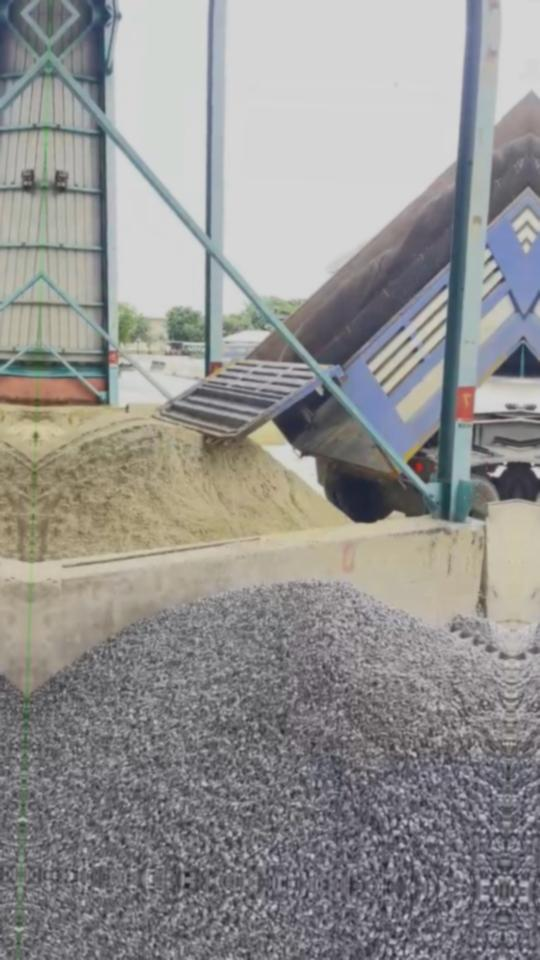gravel: (24, 581, 508, 888), (447, 614, 513, 657)
sand: (34, 418, 347, 559), (37, 404, 152, 455), (251, 423, 281, 445)
